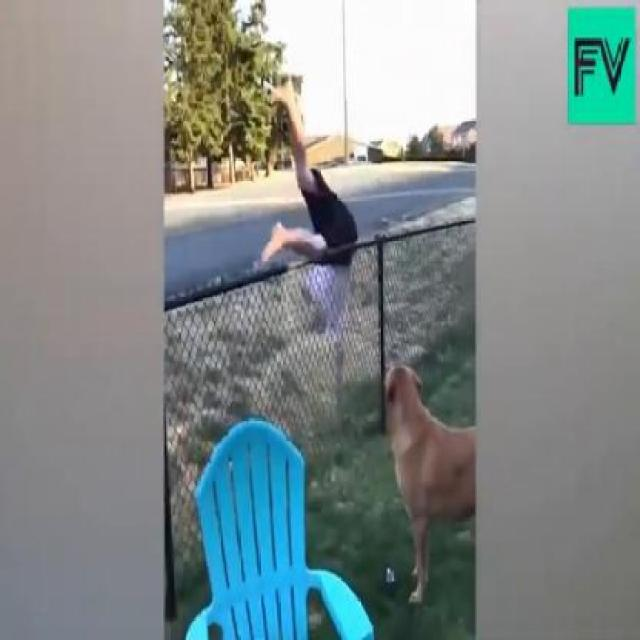fall: (262, 74, 358, 340)
